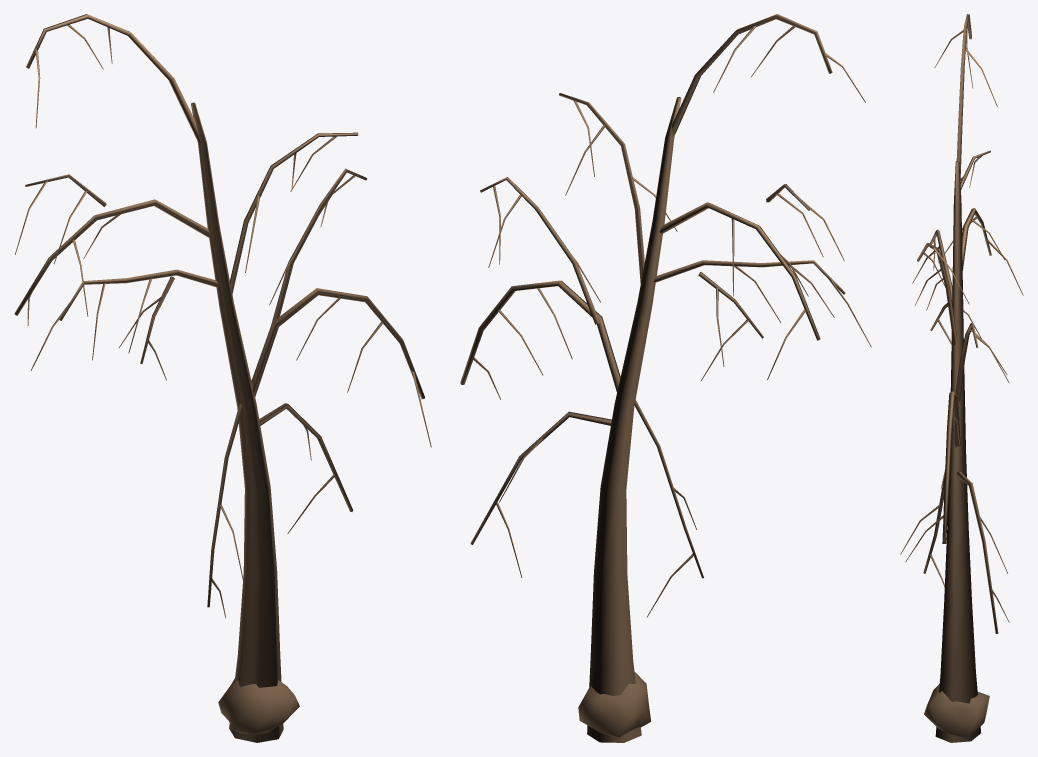
The model's file is dry-hairy-tree.glb.
3 views of the same model, side by side, from view 1: azimuth 30°, elevation 25°; view 2: azimuth 150°, elevation 25°; view 3: azimuth 270°, elevation 25° (orthographic). The views are drawn at different scales.
Visible parts, largest first — view 1: dry-hairy-tree; view 2: dry-hairy-tree; view 3: dry-hairy-tree.
Boxes of the visible parts, left/top/right/bottom form: dry-hairy-tree: left=14, top=14, right=431, bottom=742; dry-hairy-tree: left=460, top=14, right=871, bottom=742; dry-hairy-tree: left=900, top=14, right=1023, bottom=742.
Bounding box in the file's own units: 2.97 × 5.35 × 0.9352.
